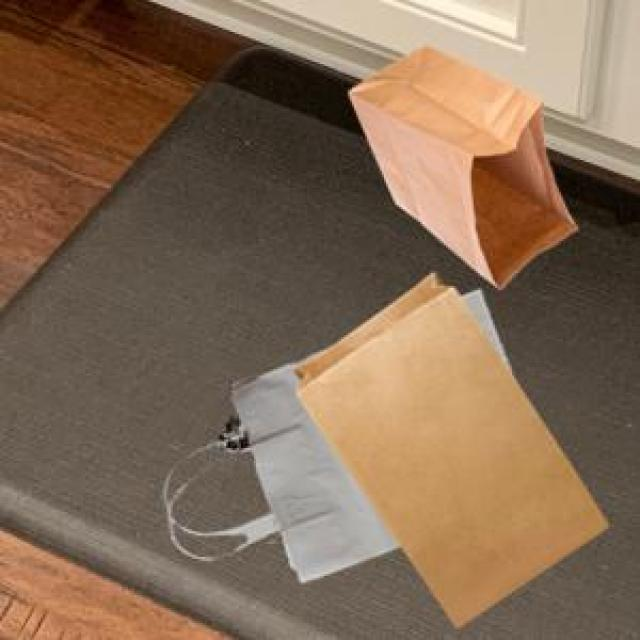Paper -Biodegradable-: (229, 267, 614, 633), (346, 47, 577, 293)
